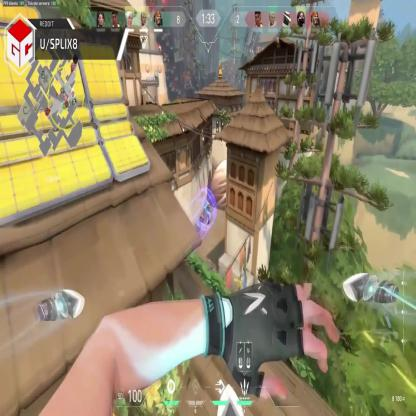enemy: (207, 206, 210, 222)
enemy_head: (207, 206, 210, 211)
